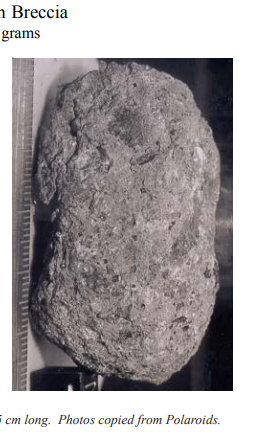Breccia: (45, 60, 221, 378)
